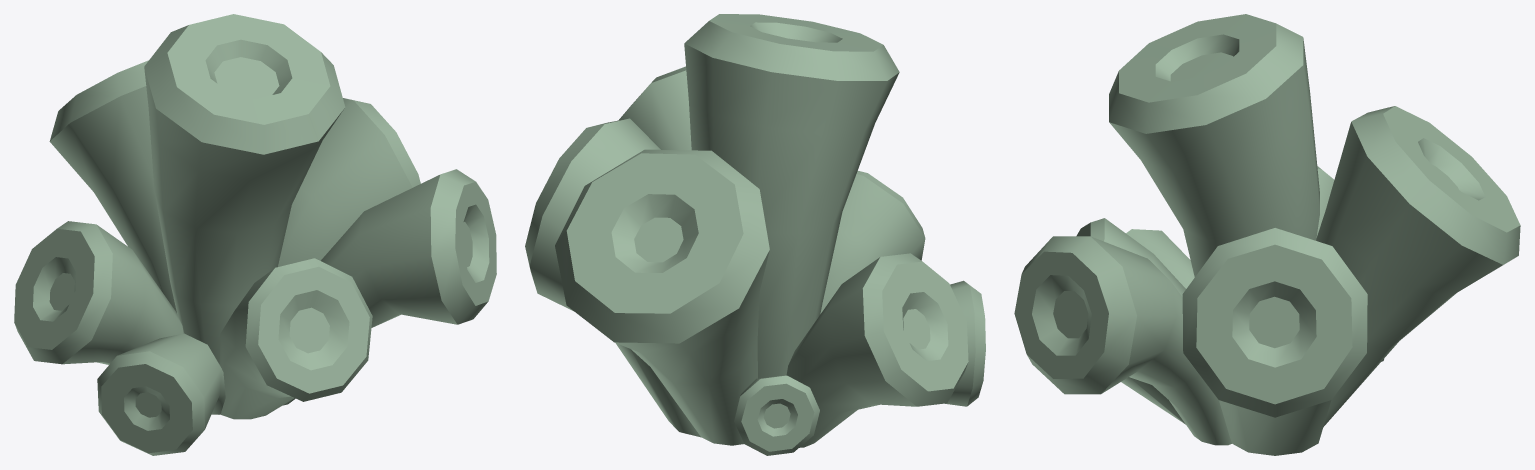
File: mesh_CoralLuminoso.fbx
3 views of the same model, side by side, from view 1: azimuth 30°, elevation 25°; view 2: azimuth 150°, elevation 25°; view 3: azimuth 270°, elevation 25° (orthographic). The views are drawn at different scales.
Visible parts, largest first — view 1: mesh_CoralLuminoso; view 2: mesh_CoralLuminoso; view 3: mesh_CoralLuminoso.
Boxes of the visible parts, left/top/right/bottom form: mesh_CoralLuminoso: left=14, top=14, right=496, bottom=455; mesh_CoralLuminoso: left=525, top=14, right=985, bottom=455; mesh_CoralLuminoso: left=1014, top=14, right=1520, bottom=455.
Size of the model in its own units: 133 by 120 by 144.
